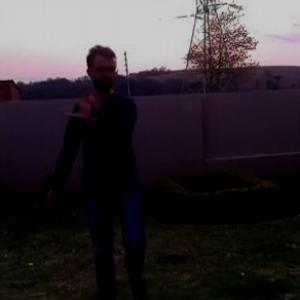follow_hand: (61, 83, 98, 122)
